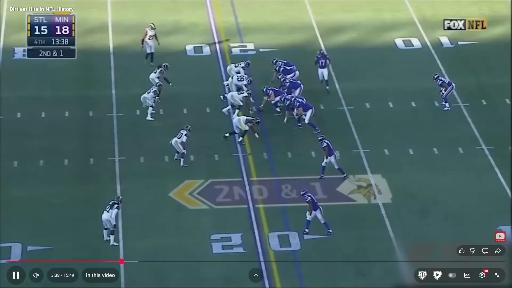Helmet: (300, 189, 309, 197), (162, 62, 169, 70), (156, 82, 164, 89), (150, 23, 156, 31), (319, 135, 325, 143), (433, 73, 439, 81), (185, 125, 191, 132), (116, 196, 122, 203), (246, 77, 252, 84), (262, 86, 268, 93), (255, 117, 260, 125), (317, 50, 323, 56), (245, 60, 250, 67), (272, 58, 277, 65), (246, 90, 251, 96), (278, 74, 283, 80), (280, 95, 285, 101), (275, 66, 279, 72), (291, 97, 295, 103)
Jersey: (227, 92, 249, 106), (233, 116, 253, 130), (295, 98, 313, 113), (304, 193, 319, 211), (266, 88, 286, 101), (104, 201, 120, 217), (286, 80, 303, 94), (320, 140, 334, 156), (228, 62, 245, 75), (315, 54, 330, 68), (436, 76, 453, 88), (232, 75, 249, 86), (275, 60, 295, 69), (175, 130, 188, 143), (145, 86, 159, 98), (276, 67, 296, 75), (152, 65, 165, 76), (145, 28, 155, 42), (279, 77, 287, 90)
Player: (301, 189, 332, 235), (319, 135, 347, 180), (224, 115, 260, 144), (102, 196, 122, 245), (295, 97, 320, 133), (170, 125, 191, 167), (221, 90, 251, 117), (433, 74, 455, 110), (259, 86, 286, 115), (141, 83, 162, 120), (142, 23, 159, 65), (284, 95, 305, 128), (315, 50, 330, 93), (271, 59, 298, 82), (271, 59, 296, 82), (150, 63, 172, 86), (224, 74, 251, 91), (227, 60, 250, 76), (275, 66, 299, 79), (286, 80, 303, 95), (272, 59, 295, 68), (278, 74, 288, 90)
